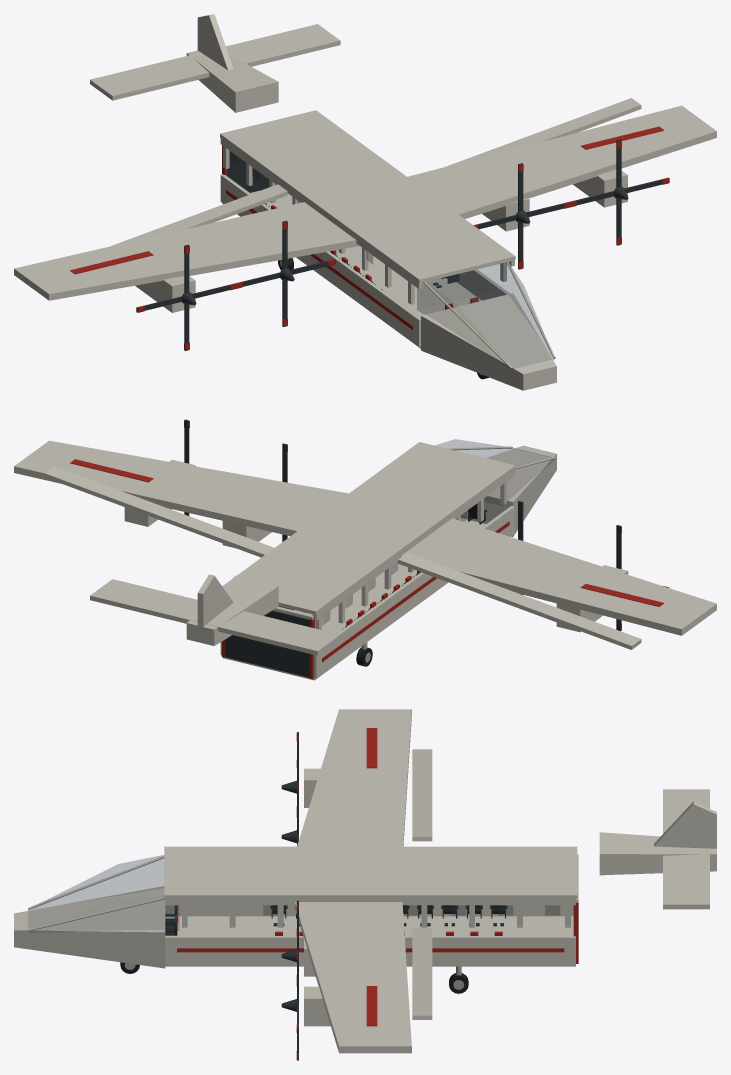
3 views of the same model, one above another, from view 1: azimuth 30°, elevation 25°; view 2: azimuth 150°, elevation 25°; view 3: azimuth 270°, elevation 25° (orthographic). The views are drawn at different scales.
Visible parts, largest first — view 1: troop-plane-painted, transport-roof-painted, troop-plane-glazing, flap-1-painted, flap--1-painted, propeller--1-6-painted, propeller-1-11-painted, propeller--1-11-painted, propeller-1-6-painted, breakaway-1-painted, transport-ramp-painted, breakaway-2-painted; view 2: troop-plane-painted, transport-roof-painted, flap--1-painted, flap-1-painted, troop-plane-glazing, transport-ramp-painted, breakaway-2-painted, breakaway-1-painted, crew-seating-batch-painted; view 3: troop-plane-painted, transport-roof-painted, troop-plane-glazing, flap--1-painted, flap-1-painted, crew-seating-batch-painted.
Part boxes in pixels (box(x1,y1,x2,y2)): troop-plane-painted: box(14, 14, 716, 390); transport-roof-painted: box(220, 110, 515, 304); troop-plane-glazing: box(229, 151, 554, 369); flap-1-painted: box(446, 98, 641, 166); flap--1-painted: box(110, 184, 287, 246); propeller--1-6-painted: box(235, 220, 335, 326); propeller-1-11-painted: box(570, 139, 669, 245); propeller--1-11-painted: box(136, 244, 236, 350); propeller-1-6-painted: box(473, 163, 570, 269); breakaway-1-painted: box(135, 276, 195, 312); transport-ramp-painted: box(227, 151, 269, 192); breakaway-2-painted: box(482, 198, 529, 231); troop-plane-painted: box(14, 440, 716, 680); transport-roof-painted: box(222, 442, 515, 629); flap--1-painted: box(397, 552, 641, 649); flap-1-painted: box(44, 466, 274, 557); troop-plane-glazing: box(322, 439, 554, 624); transport-ramp-painted: box(225, 610, 309, 677); breakaway-2-painted: box(222, 521, 271, 548); breakaway-1-painted: box(556, 565, 627, 632); crew-seating-batch-painted: box(278, 503, 486, 629); troop-plane-painted: box(14, 709, 716, 1053); transport-roof-painted: box(164, 846, 577, 927); troop-plane-glazing: box(28, 855, 559, 932); flap--1-painted: box(412, 749, 432, 841); flap-1-painted: box(412, 928, 432, 1019); crew-seating-batch-painted: box(165, 905, 507, 935).
Bounding box in the file's own units: 179 × 42.02 × 158.
